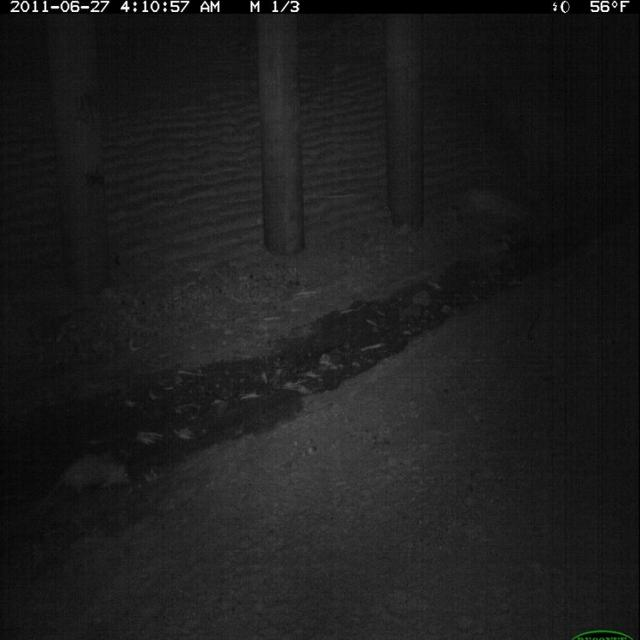opossum: (39, 447, 137, 513)
